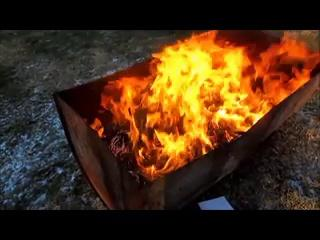Fire: (95, 48, 294, 156)
